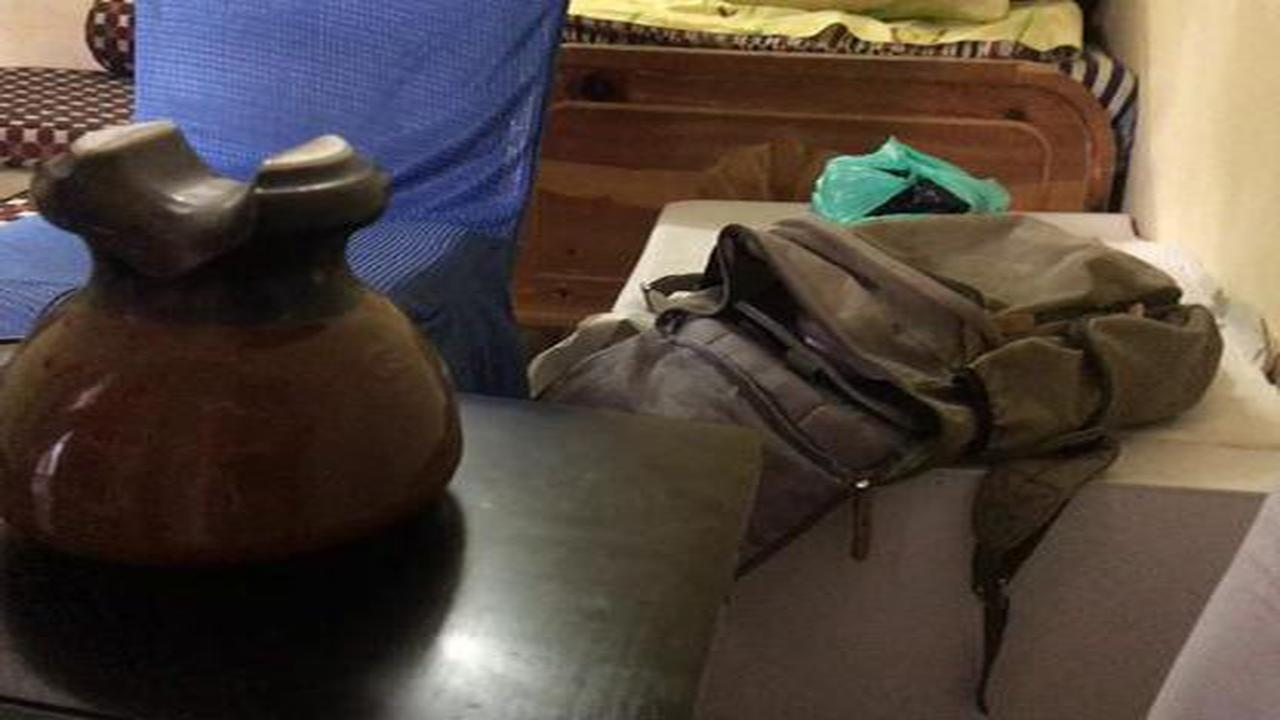insulator_pin: (7, 111, 474, 596)
